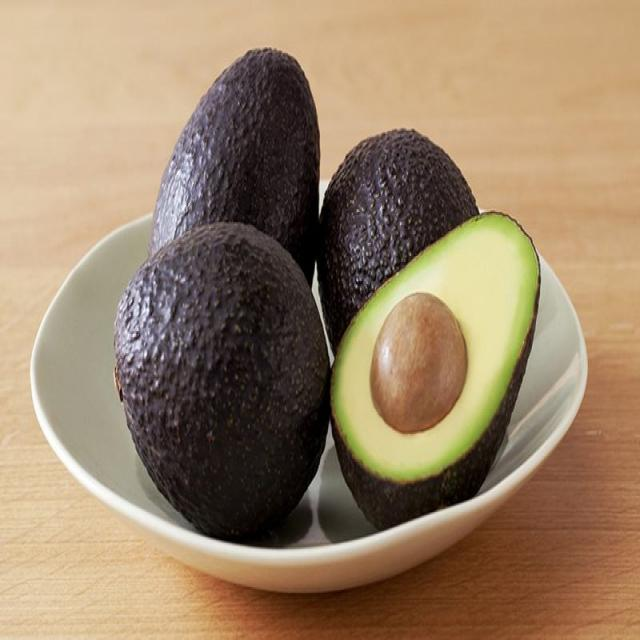avocado: (113, 223, 331, 531), (334, 210, 539, 500), (150, 46, 320, 284), (318, 128, 480, 334)
